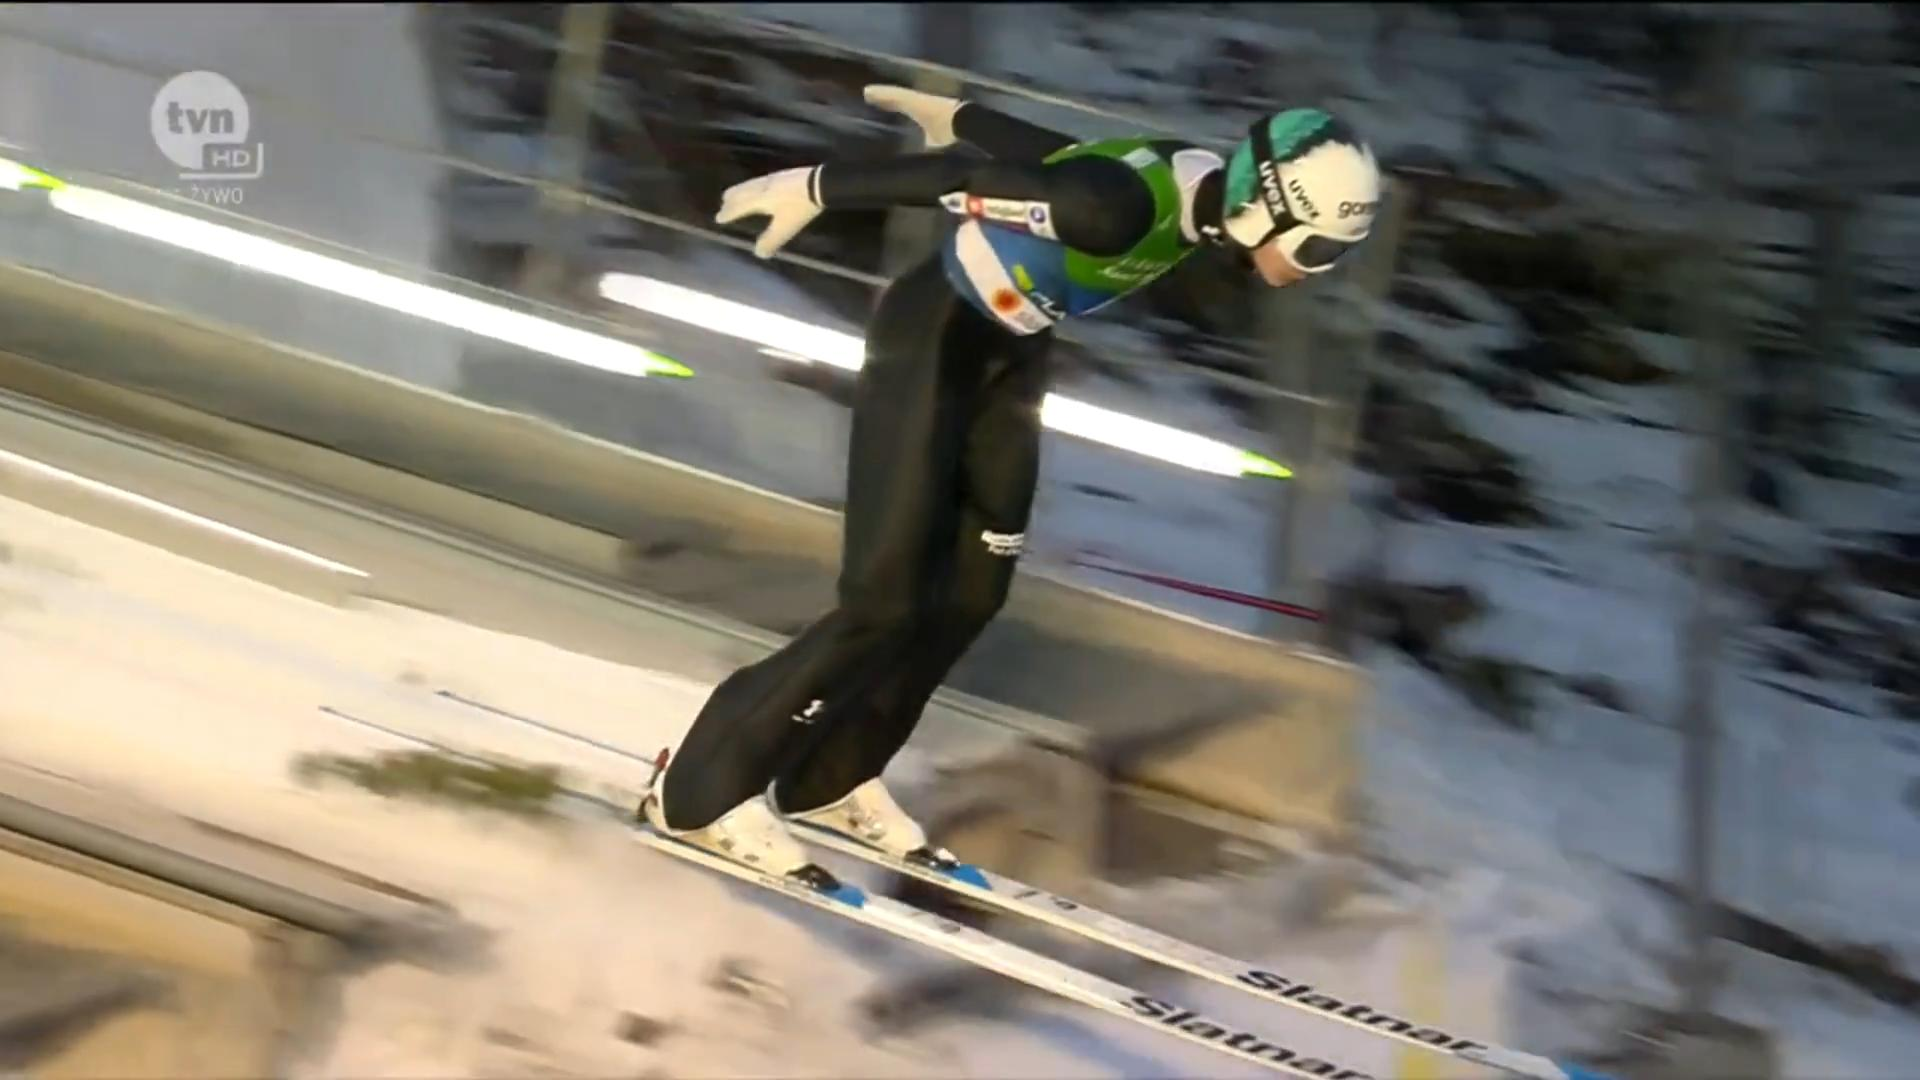prog: (895, 688, 1290, 820)
